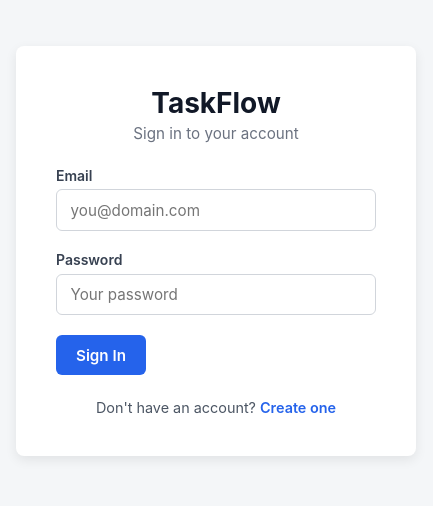
Test: LoginForm › displays error message when login fails
Step 1. Type "wrong@taskflow.dev" into the field labelled "Email" → (216, 210), box [56,189,376,231]
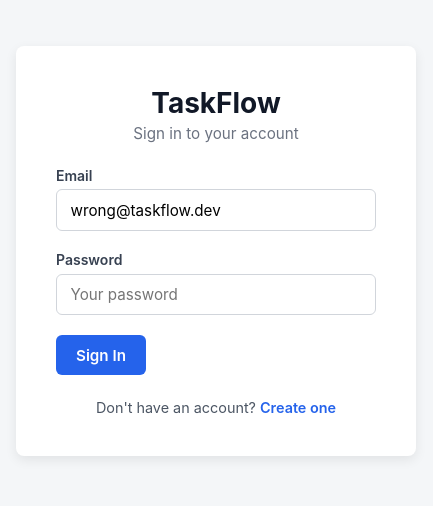
Step 2. Type "wrongpass" into the password field labelled "Password" → (216, 295), box [56,274,376,316]
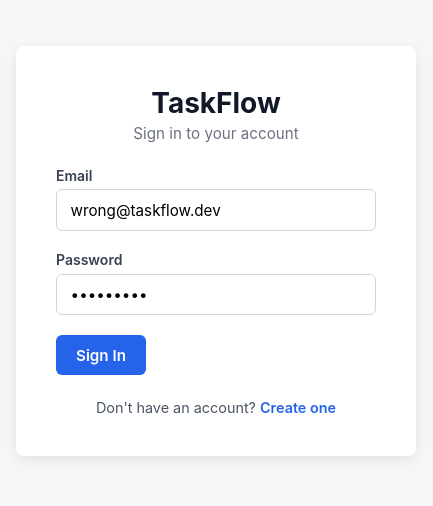
Step 3. Click the button "Sign In" → (101, 355), box [56,336,146,375]
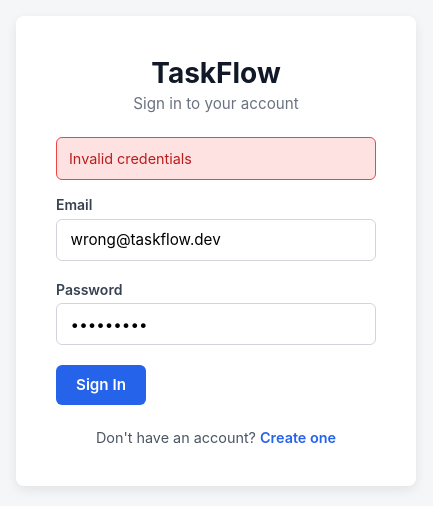
Expected: the text "Invalid credentials" is shown, [56,137,376,180]
